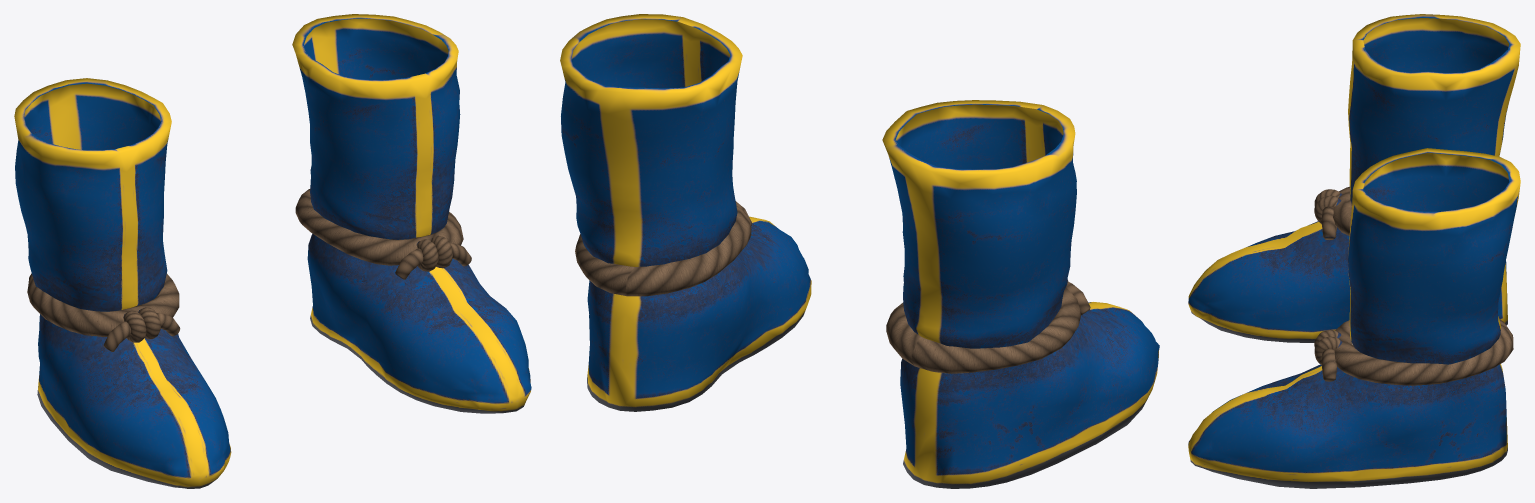
Rendered from Goku Shoes.fbx.
The picture shows the model from 3 angles, left to right: view 1: azimuth 30°, elevation 25°; view 2: azimuth 150°, elevation 25°; view 3: azimuth 270°, elevation 25°; orthographic projection. The views are drawn at different scales.
Visible parts, largest first — view 1: Goku Shoes; view 2: Goku Shoes; view 3: Goku Shoes.
Part boxes in pixels (x1,y1,x2,y2): Goku Shoes: (14, 14, 531, 488); Goku Shoes: (560, 14, 1159, 488); Goku Shoes: (1188, 14, 1520, 488).
Bounding box in the file's own units: 179 × 114 × 123.
